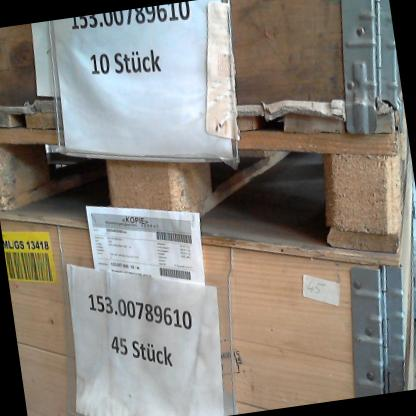pallet: (0, 44, 416, 315)
